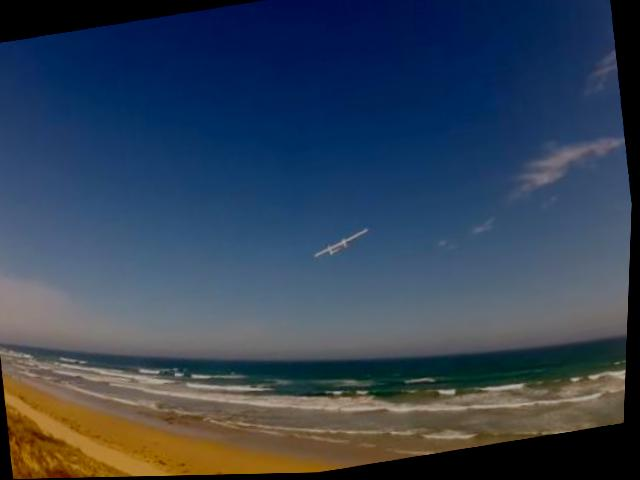uav: (314, 226, 373, 261)
